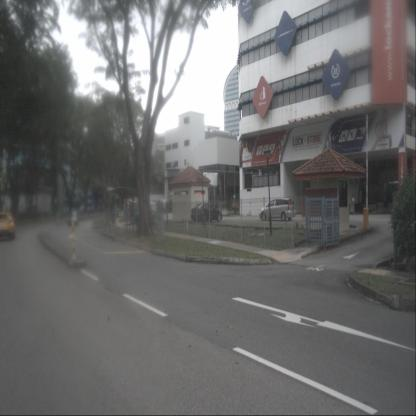vehicle-car: (259, 198, 296, 221), (191, 202, 222, 223), (0, 213, 16, 239), (68, 212, 78, 226)
